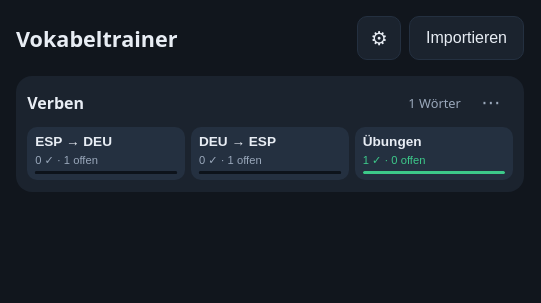
LibraryView mit Übungen › blendet die selteneren Aktionen erst über "⋯" ein
The image size is (541, 303).
Expected: the button "Liste löschen" is not shown
Click the button named "Weitere Aktionen für Verben": (491, 103) [469, 85, 513, 121]
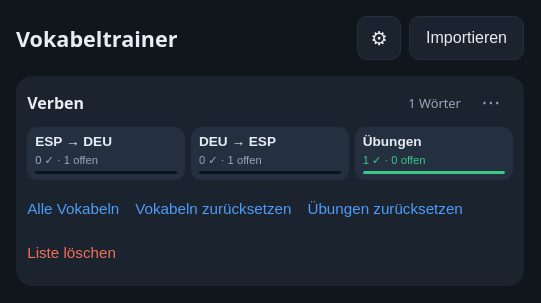
Result: the button "Liste löschen" is shown at [27, 231, 116, 275]
